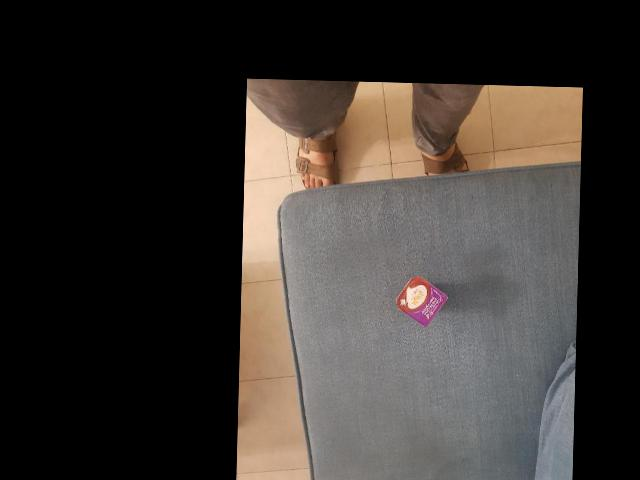milky: (442, 344, 506, 403)
